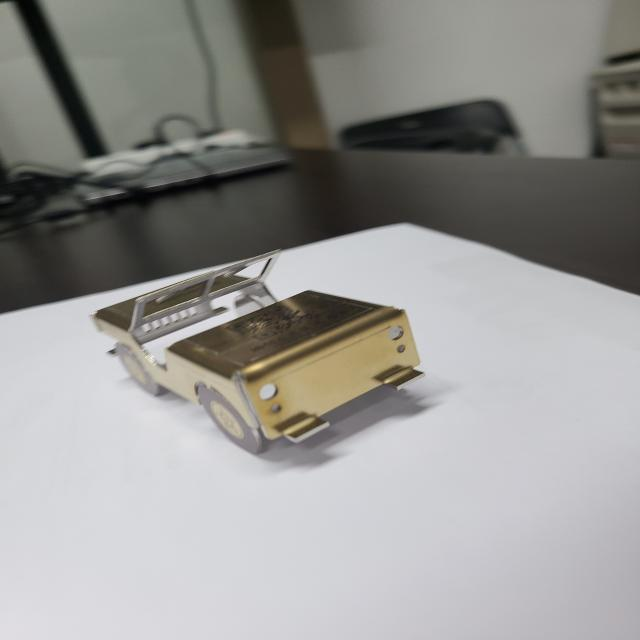tire: (197, 385, 267, 453), (115, 342, 164, 395)
